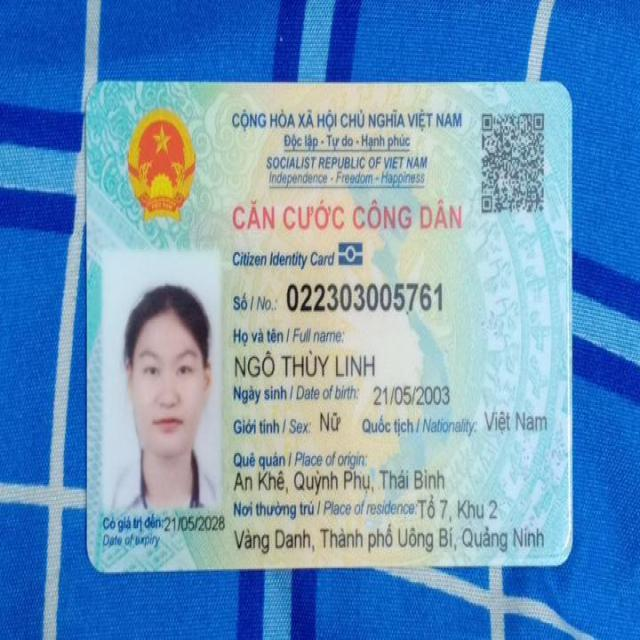bottom_left: (78, 543, 116, 584)
bottom_right: (540, 532, 584, 574)
image_person: (100, 258, 224, 517)
top_left: (76, 69, 115, 111)
top_right: (544, 69, 585, 109)
